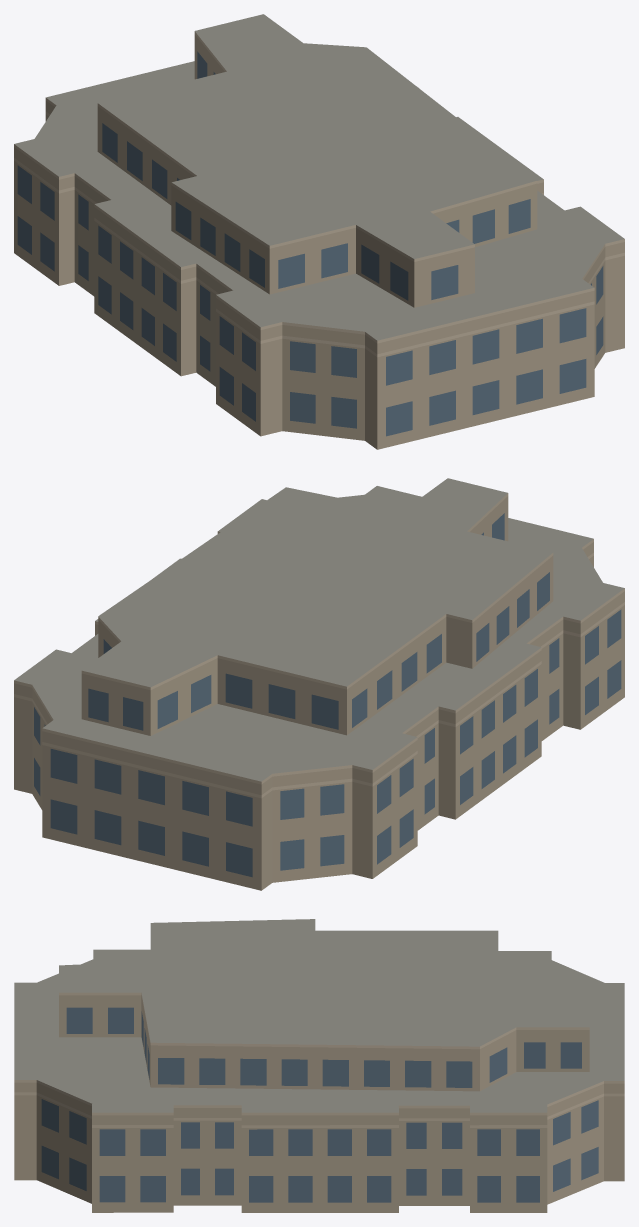
Rendered from dc-au-bender-library.glb.
3 renders of one model, top to bottom at view 1: azimuth 30°, elevation 25°; view 2: azimuth 150°, elevation 25°; view 3: azimuth 270°, elevation 25°, orthographic. The views are drawn at different scales.
Parts seen in each view (by area): view 1: Bender Library; view 2: Bender Library; view 3: Bender Library.
Part boxes in pixels (<box>): Bender Library: <box>14,14,624,449</box>; Bender Library: <box>14,478,624,890</box>; Bender Library: <box>14,919,624,1212</box>.
Bounding box in the file's own units: 42.32 × 17.5 × 66.83.
